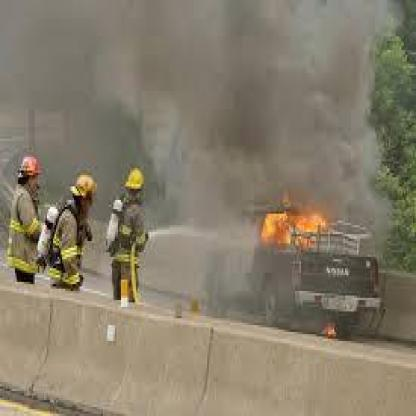fire: (259, 188, 332, 249)
other: (9, 148, 43, 192), (62, 166, 99, 200), (110, 259, 134, 311), (115, 156, 144, 199)
smoke: (12, 0, 390, 145), (179, 160, 256, 212), (339, 148, 379, 209)
